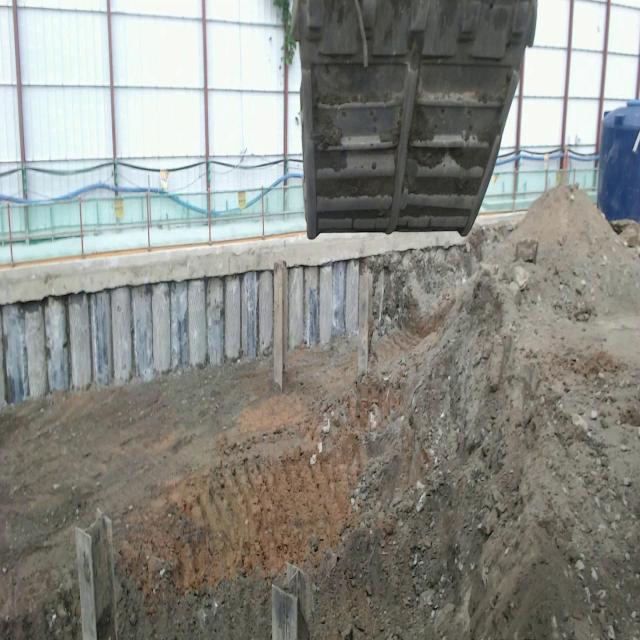red-sand: (0, 188, 640, 639)
